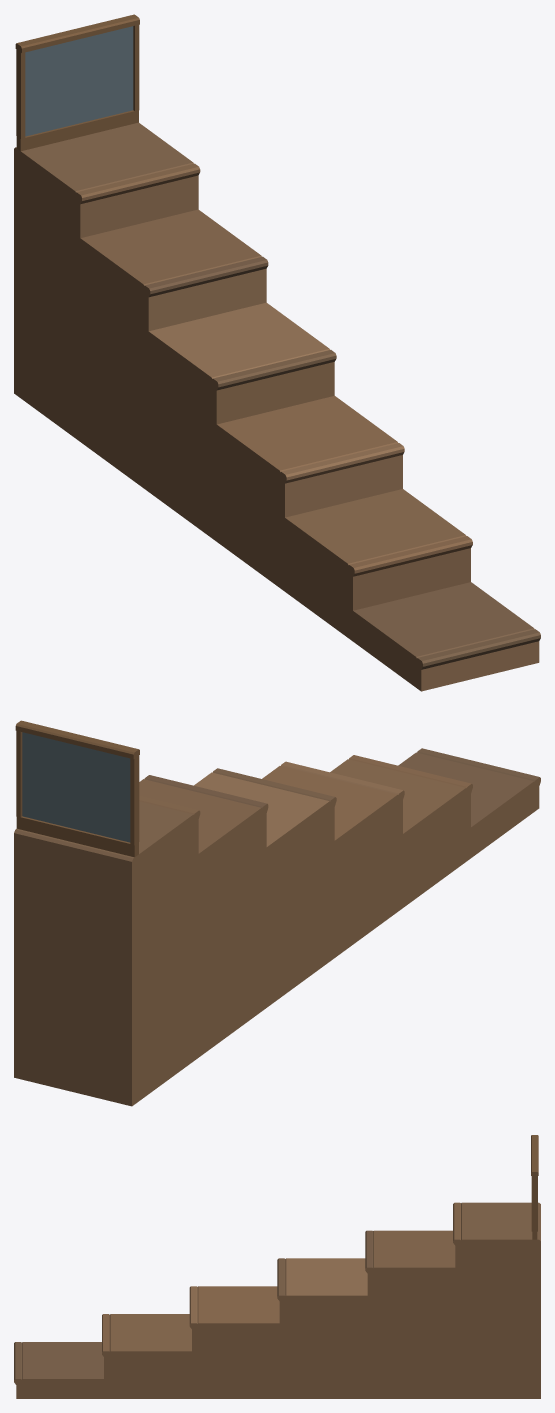
Rendered from lecture-theatre-riser-run-5f246a.glb.
3 views of the same model, one above another, from view 1: azimuth 30°, elevation 25°; view 2: azimuth 150°, elevation 25°; view 3: azimuth 270°, elevation 25° (orthographic). The views are drawn at different scales.
Parts seen in each view (by area): view 1: riser-tiers; view 2: riser-tiers; view 3: riser-tiers.
Part boxes in pixels (x1,y1,x2,y2): riser-tiers: [14, 14, 540, 691]; riser-tiers: [14, 720, 540, 1106]; riser-tiers: [14, 1135, 540, 1398].
Bounding box in the file's own units: 1 × 2.85 × 6.
